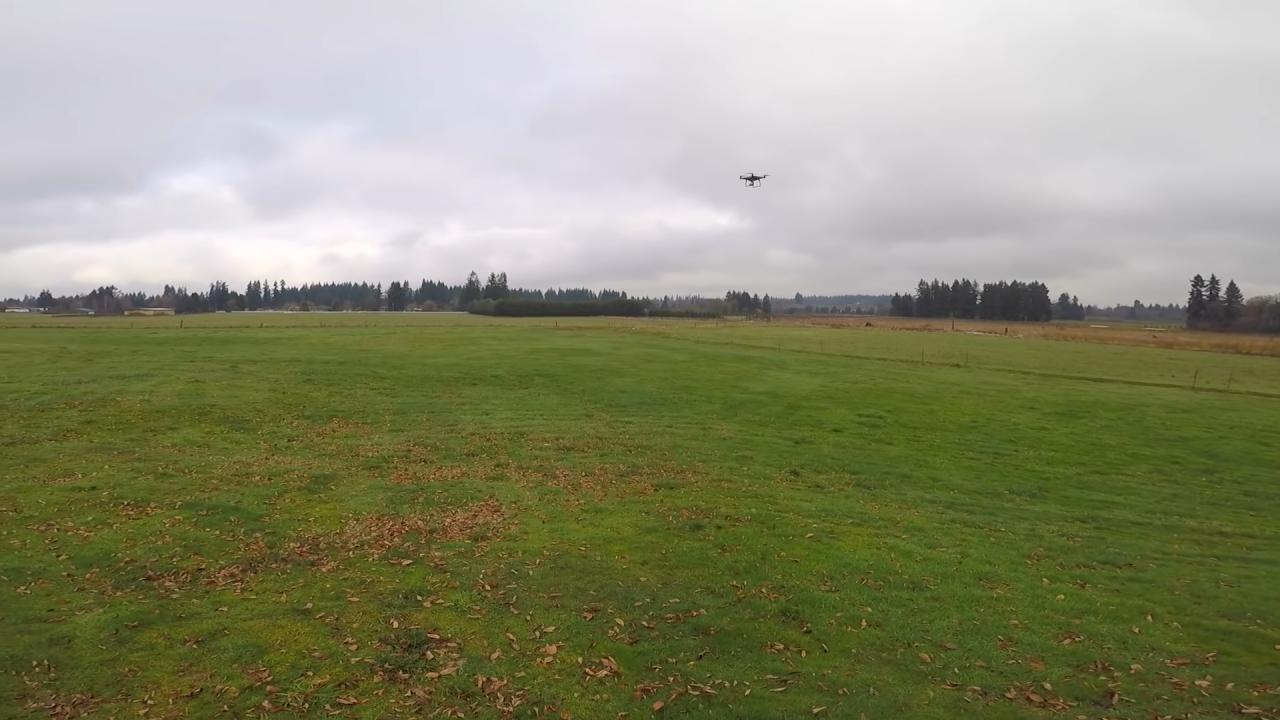Drone: (730, 163, 774, 195)
